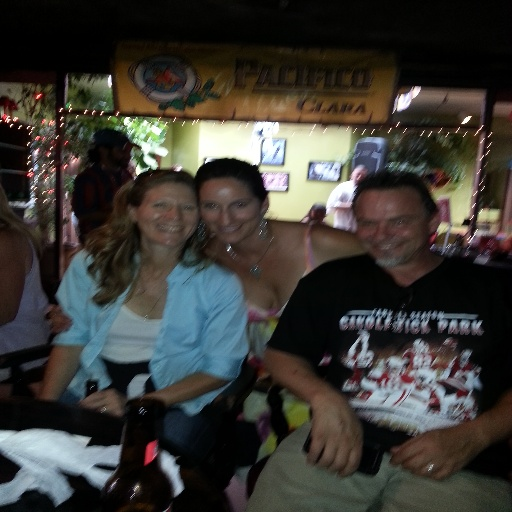hand: (386, 411, 500, 480), (305, 402, 363, 482), (77, 388, 129, 420), (52, 308, 72, 335), (28, 383, 43, 398)
